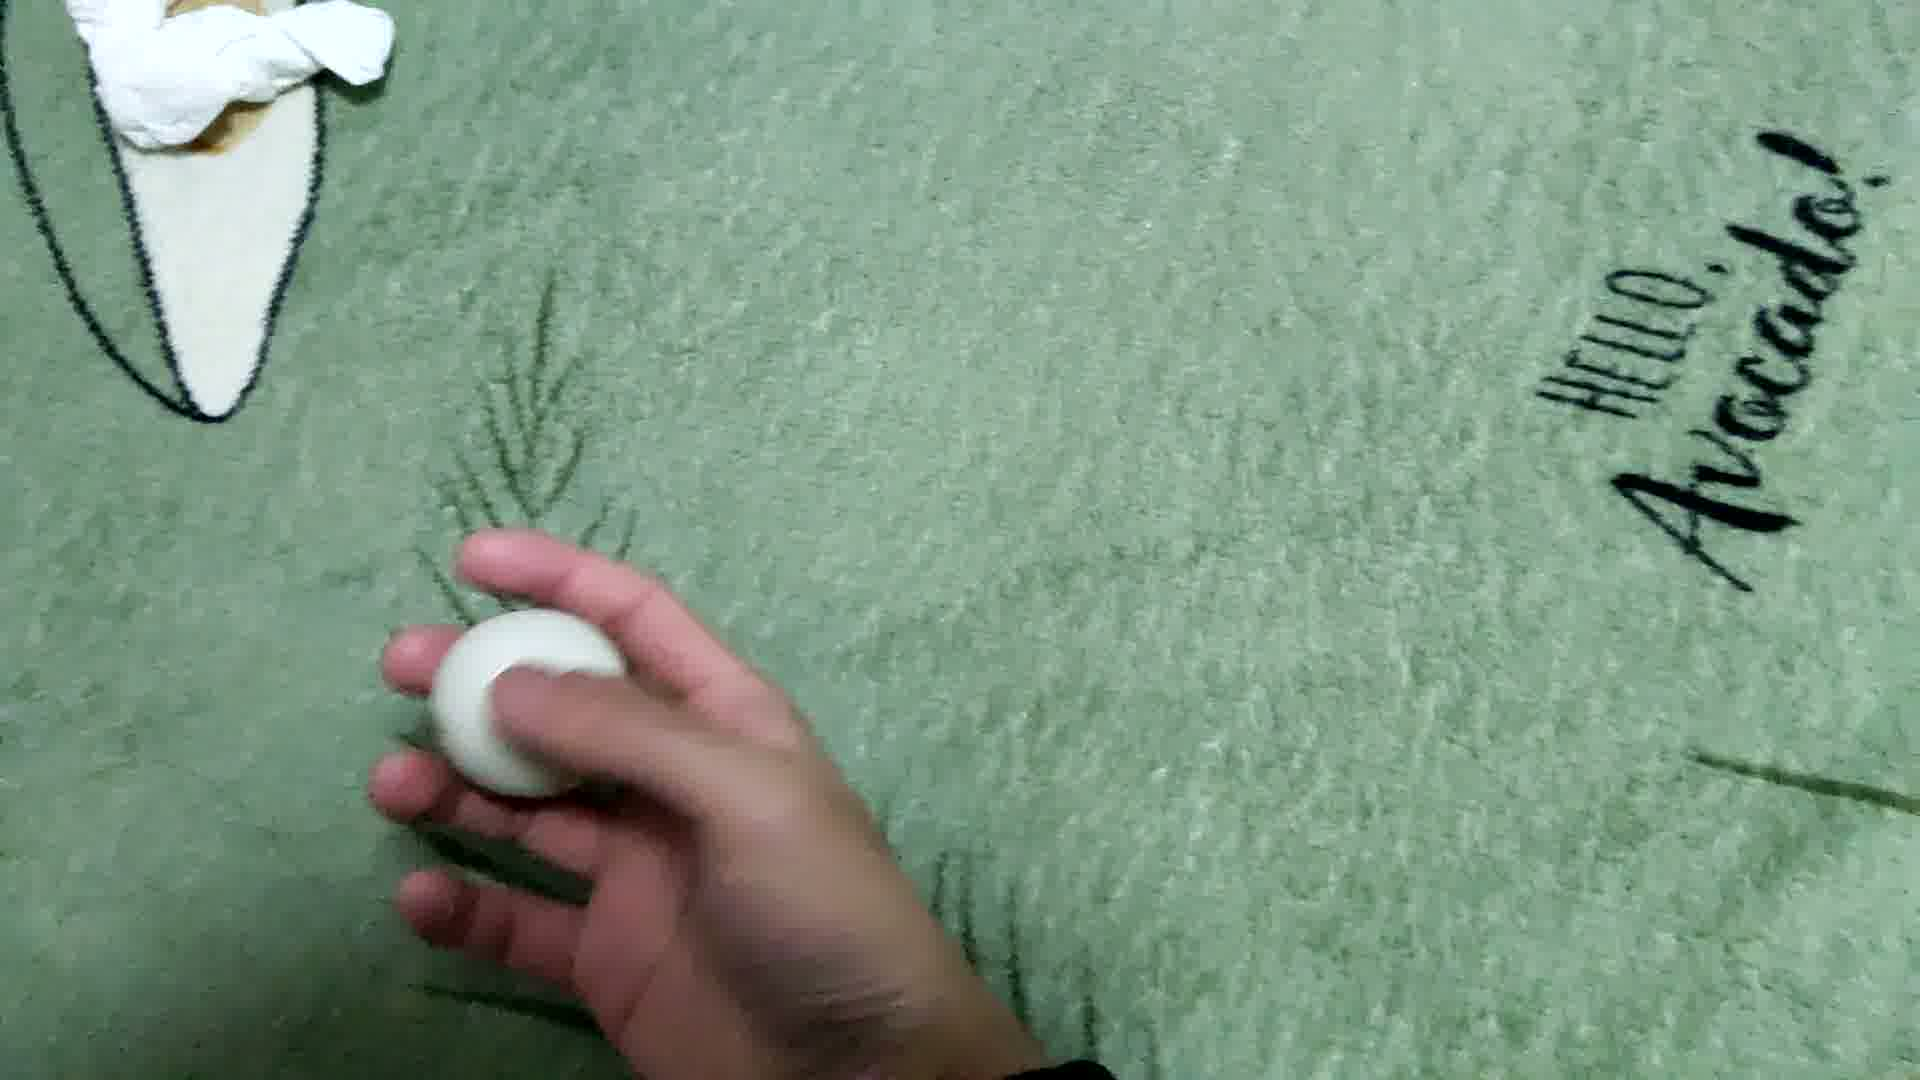Ball: (433, 607, 615, 793)
